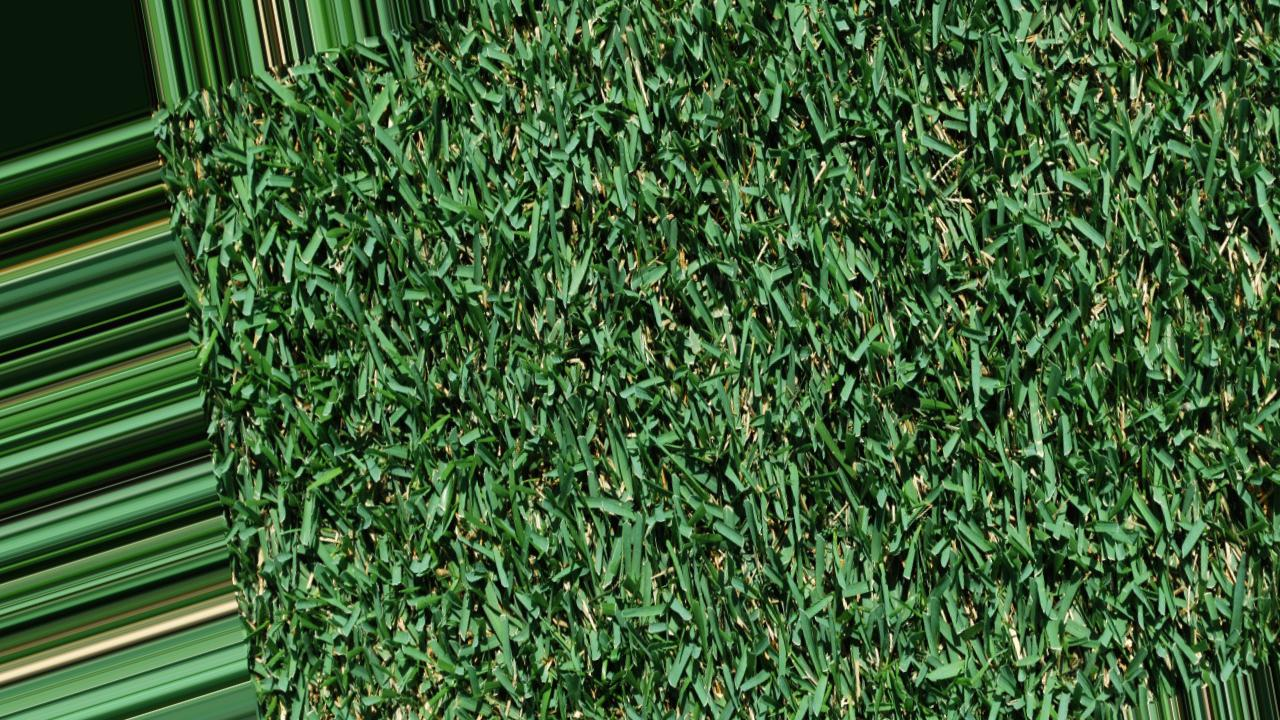patch: (1246, 271, 1259, 295)
